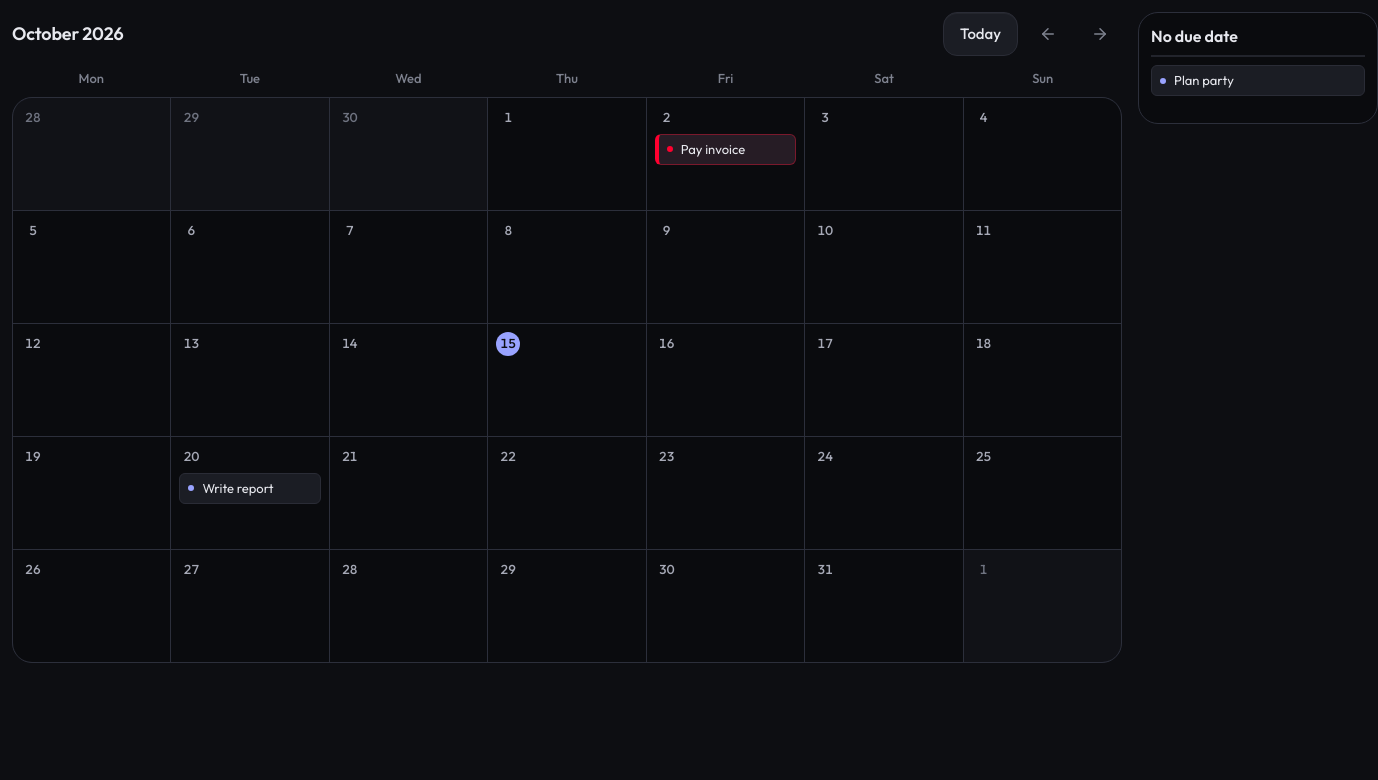
CalendarView › moves between months, and Today comes back
This screenshot has width=1378, height=780.
Click the button named "Next month": [1100, 34] box [1078,12,1122,56]
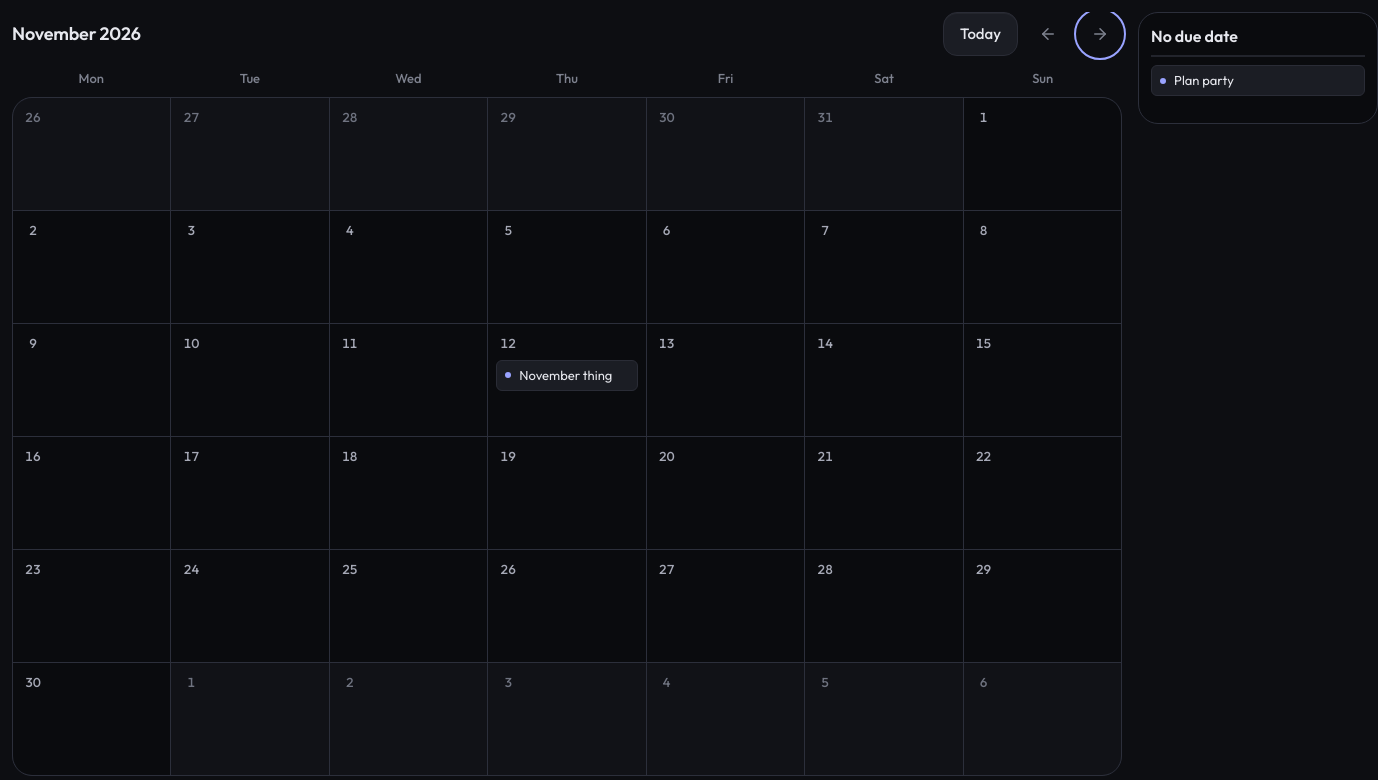
Expected: the heading "November 2026" is shown, [12,22,141,46]
Expected: the button "November thing" is shown, [496,360,638,391]
Click the button named "Previous month": [1048, 34] box [1026,12,1070,56]
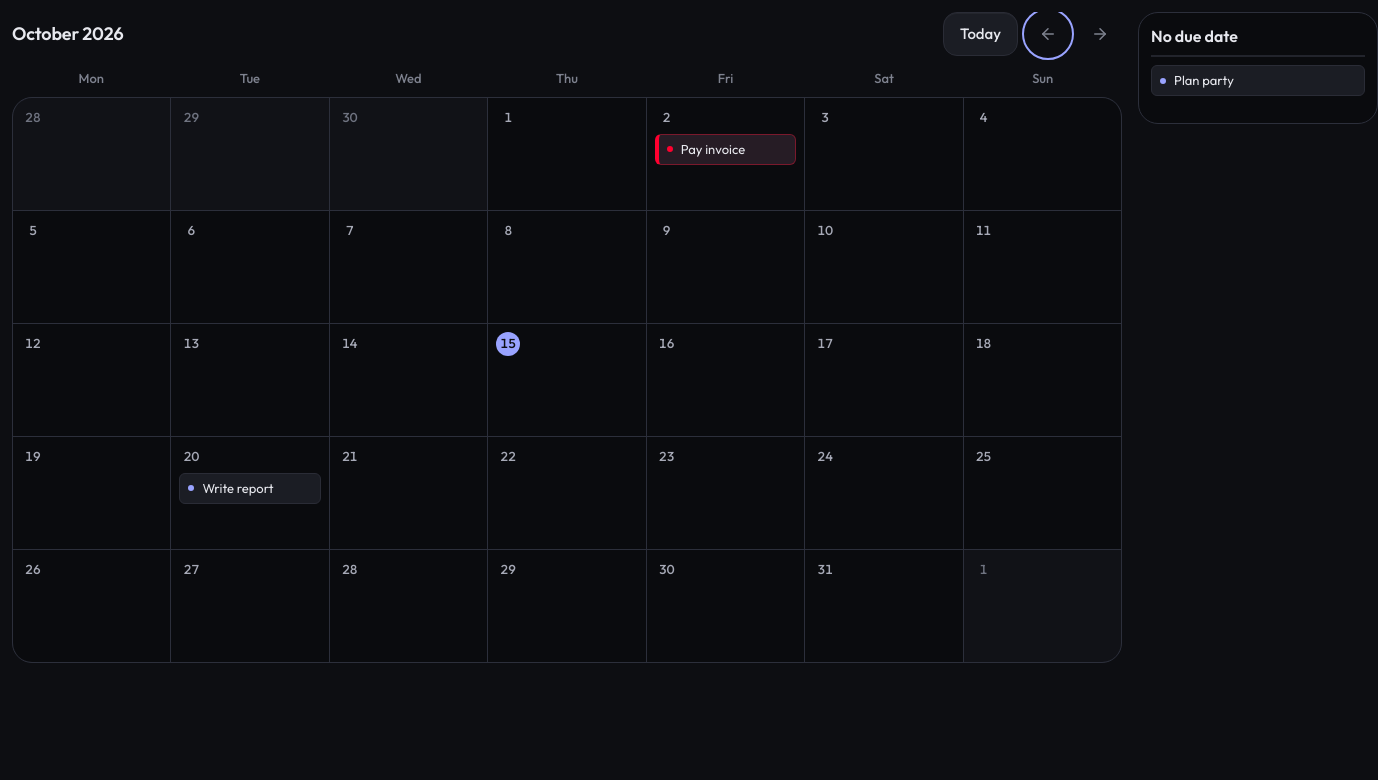
Click the button named "Previous month": [1048, 34] box [1026,12,1070,56]
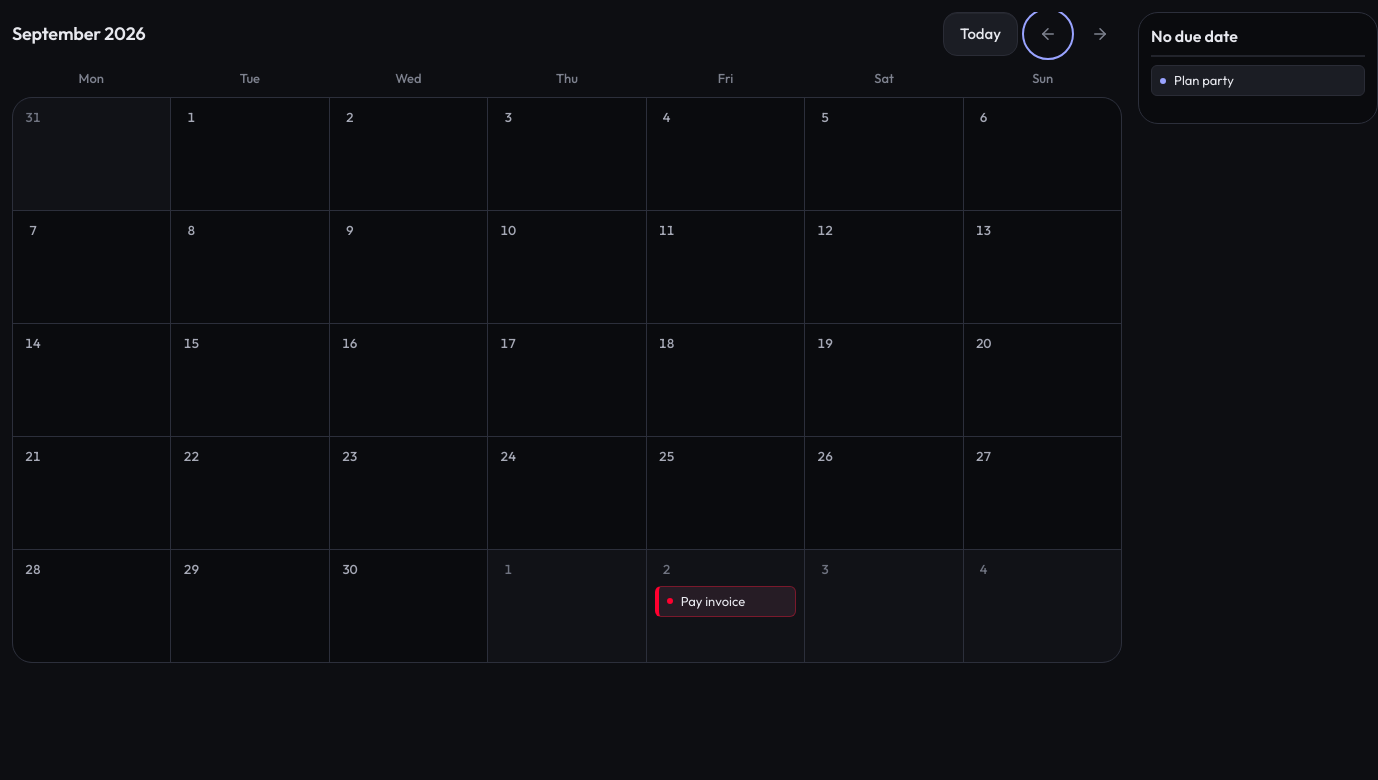
Expected: the heading "September 2026" is shown, [12,22,146,46]
Click the button "Today": [980, 34] box [943,12,1018,56]
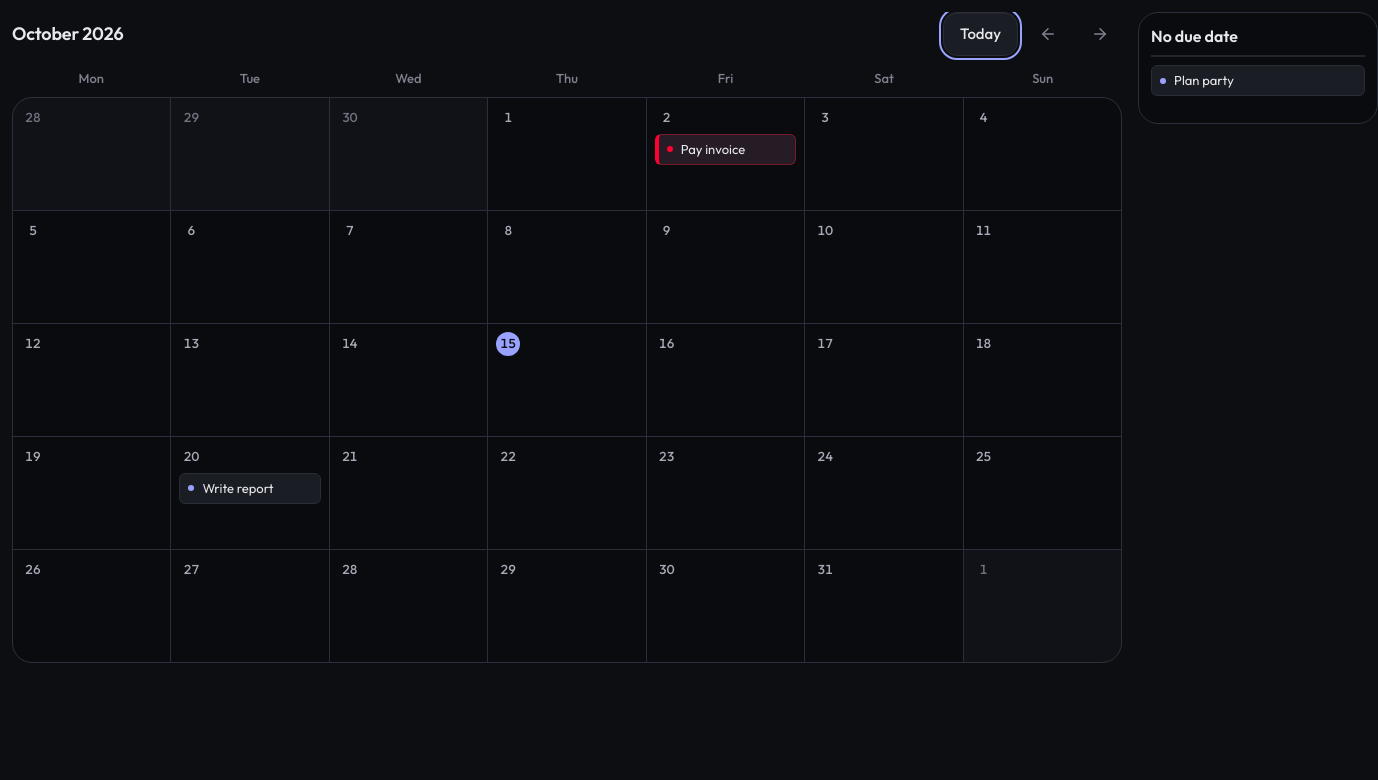
Expected: the heading "October 2026" is shown, [12,22,124,46]
